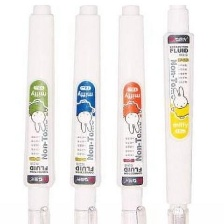correction_fluid: (22, 2, 59, 224), (114, 2, 150, 223), (161, 2, 196, 224), (69, 3, 104, 224)
